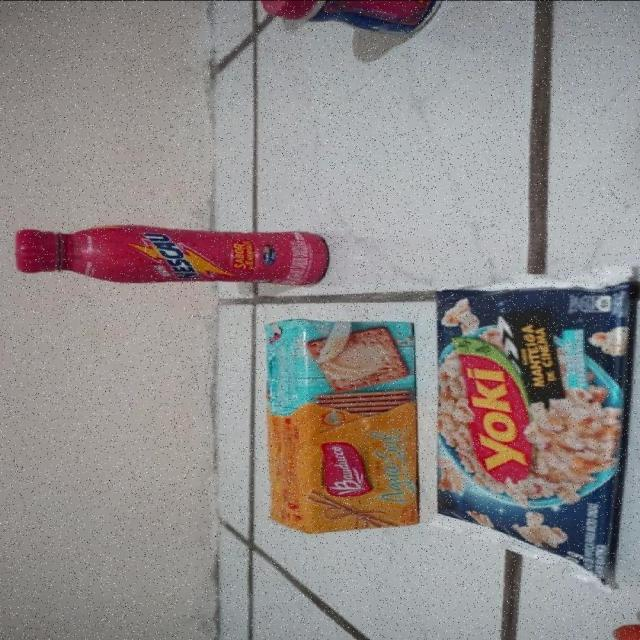ChocolateMilk: (18, 227, 326, 287)
Cracker: (263, 319, 417, 533)
Popcorn: (428, 261, 636, 583)
Yeast: (266, 0, 438, 34)
